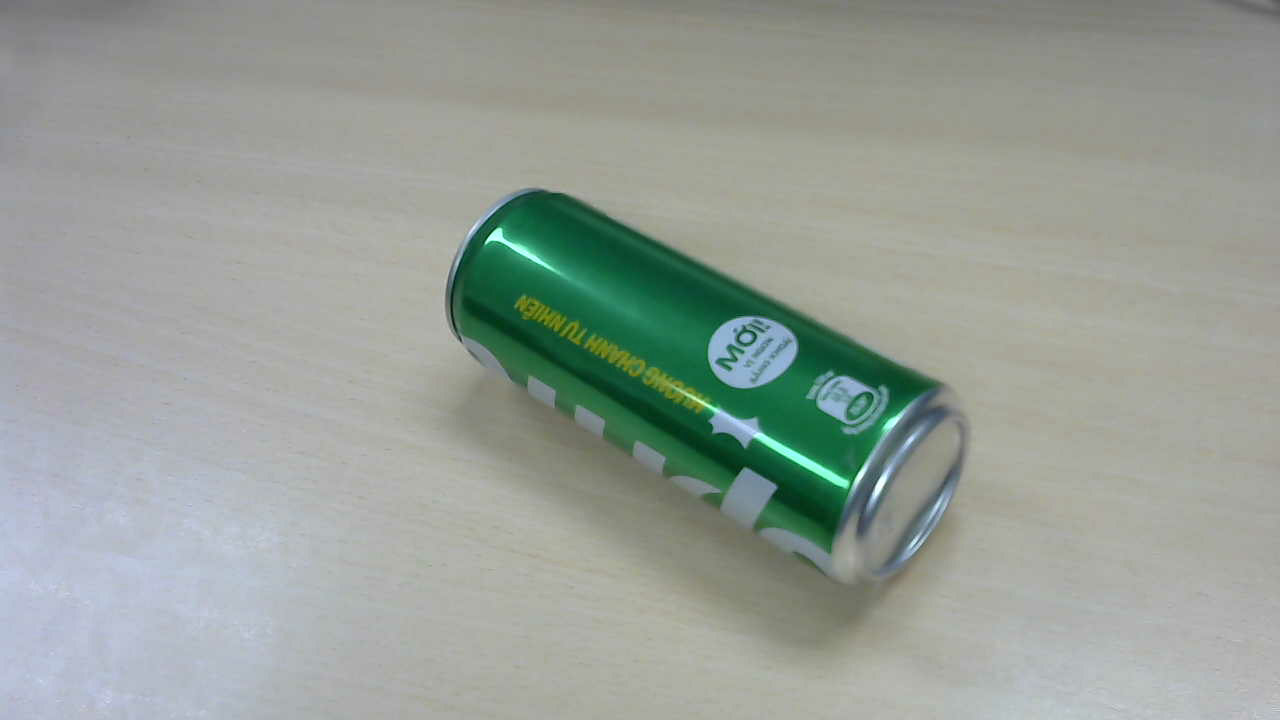Sprite: (427, 172, 973, 597)
